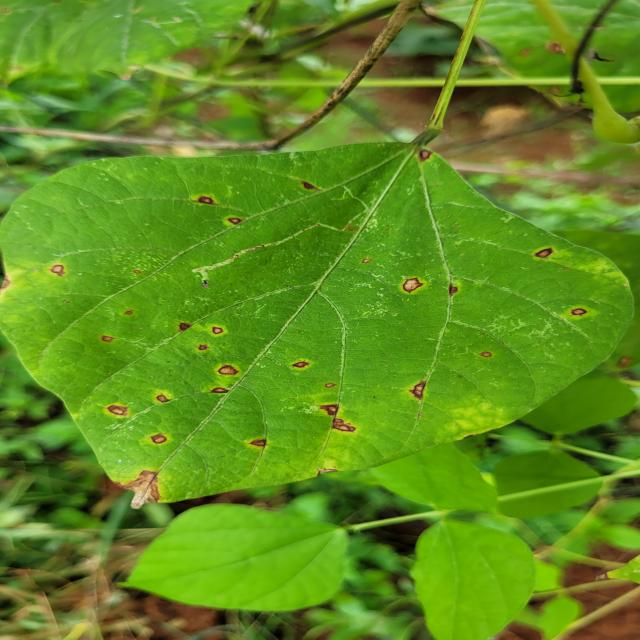Dolicos bean_cercospora leaf spot: (0, 138, 640, 506)
Dolicos bean_healthy: (102, 494, 348, 610), (398, 513, 544, 640), (359, 410, 506, 520)
